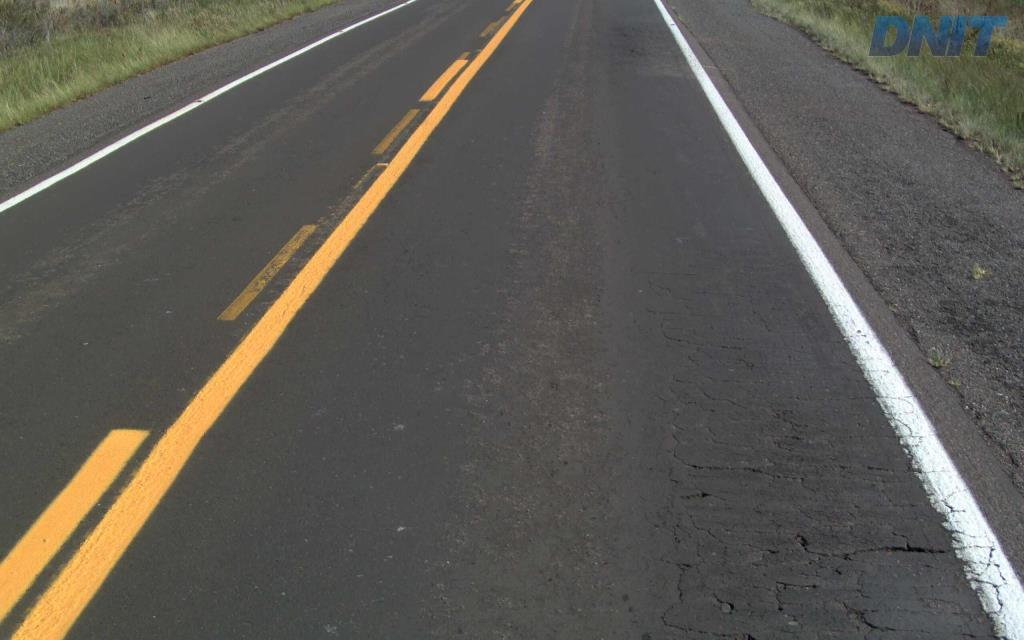crack: (828, 531, 951, 561), (742, 457, 819, 494), (791, 525, 850, 568), (771, 580, 819, 614), (754, 530, 800, 565), (771, 409, 808, 452)
